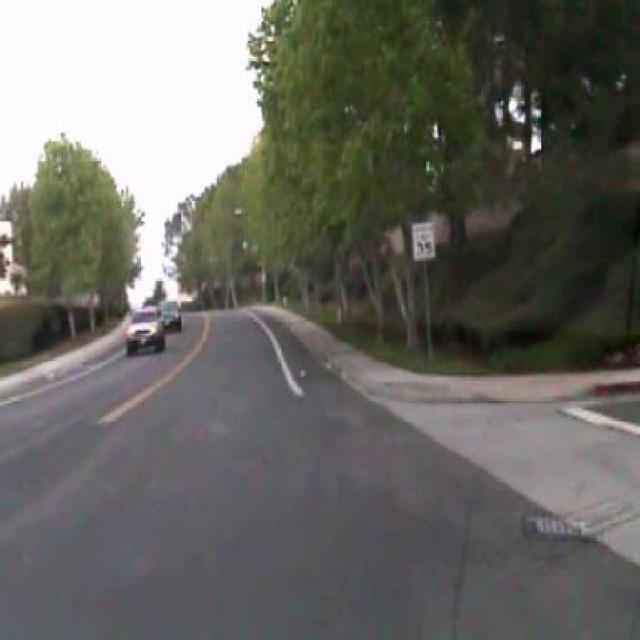speedLimit35: (411, 218, 435, 260)
